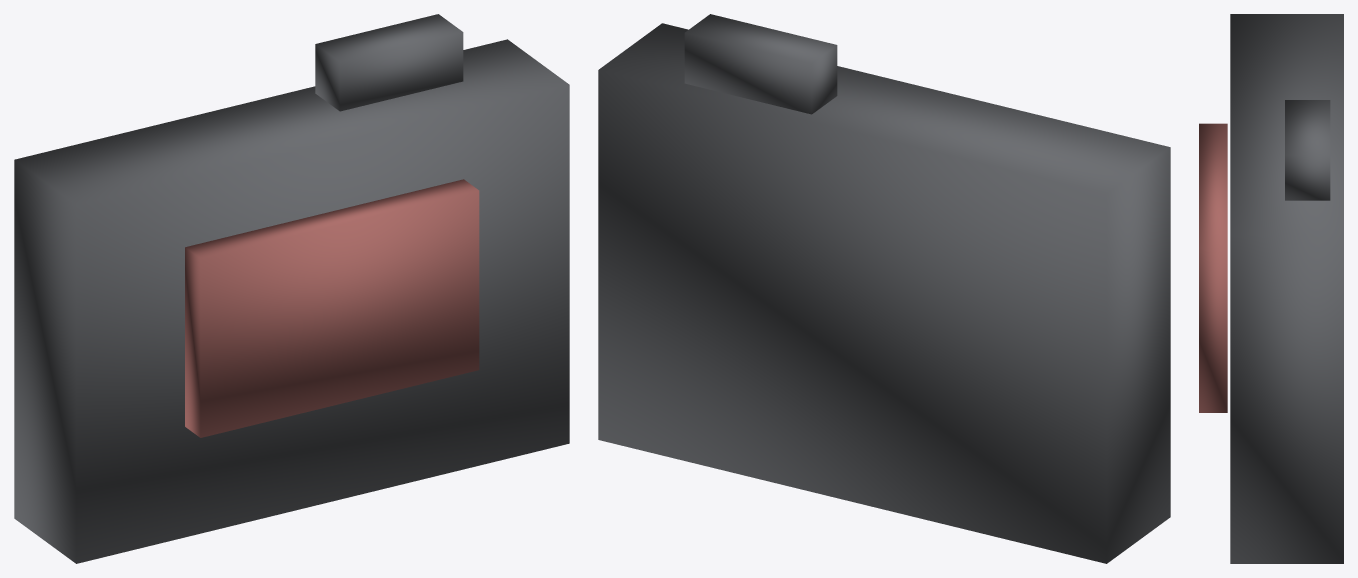
File: take_a_number_display__service.glb
3 views of the same model, side by side, from view 1: azimuth 30°, elevation 25°; view 2: azimuth 150°, elevation 25°; view 3: azimuth 270°, elevation 25° (orthographic). The views are drawn at different scales.
Parts seen in each view (by area): view 1: world; view 2: world; view 3: world.
Boxes of the visible parts, x1,y1,x2,y2 form: world: (14,14,569,563); world: (598,14,1170,563); world: (1199,14,1343,563).
Bounding box in the file's own units: 0.46 × 0.364 × 0.1275.
